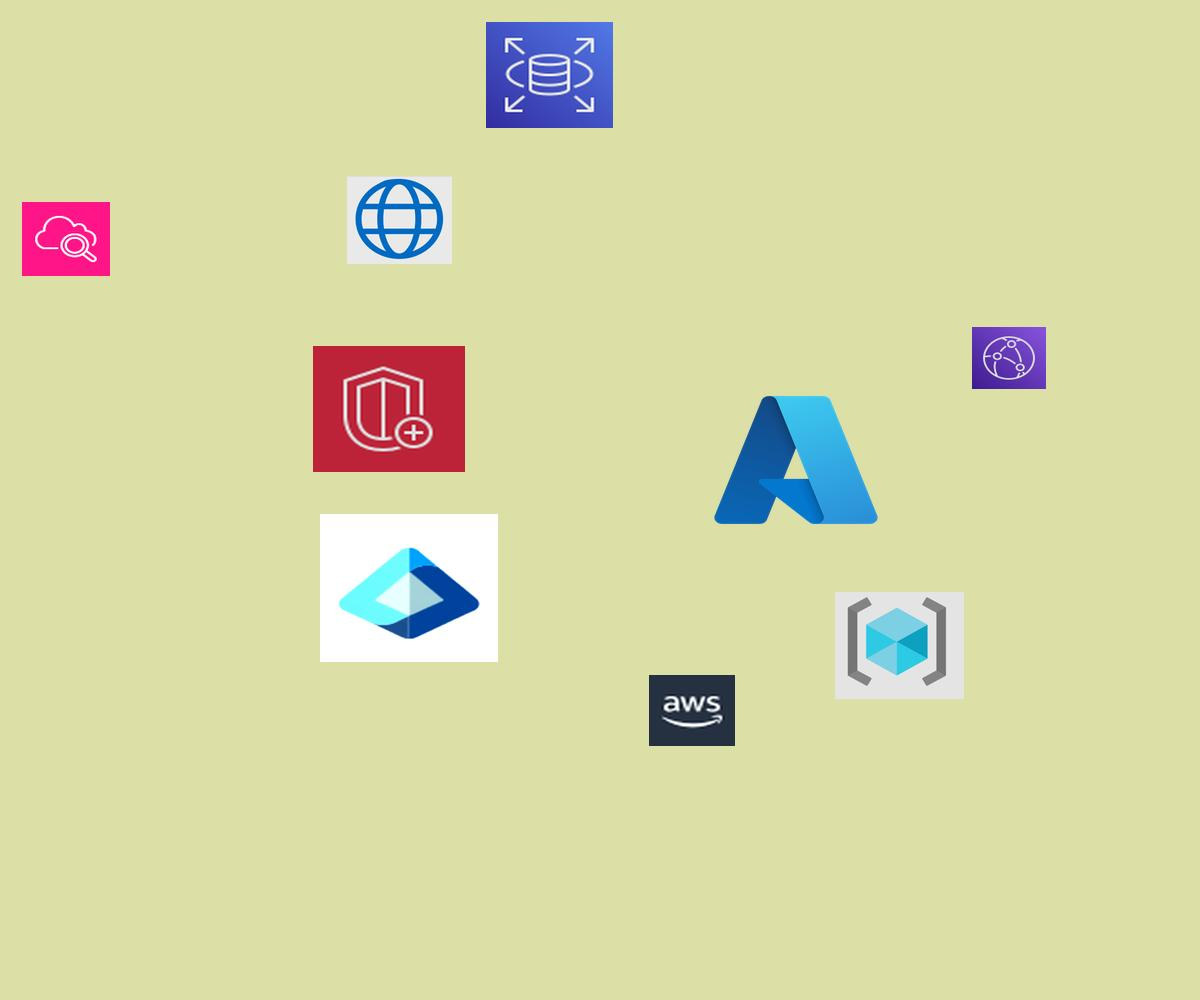AWS-Cloud-logo: (649, 675, 735, 746)
AWS-CloudFront: (972, 327, 1046, 389)
AWS-CloudWatch: (22, 202, 110, 276)
AWS-RDS: (486, 22, 613, 128)
AWS-Shield: (313, 346, 465, 472)
Azure_http: (347, 176, 452, 264)
Azure_microsoft_entra: (320, 514, 498, 662)
Azure_resource_group: (835, 592, 964, 699)
Azure_services: (707, 386, 885, 534)
